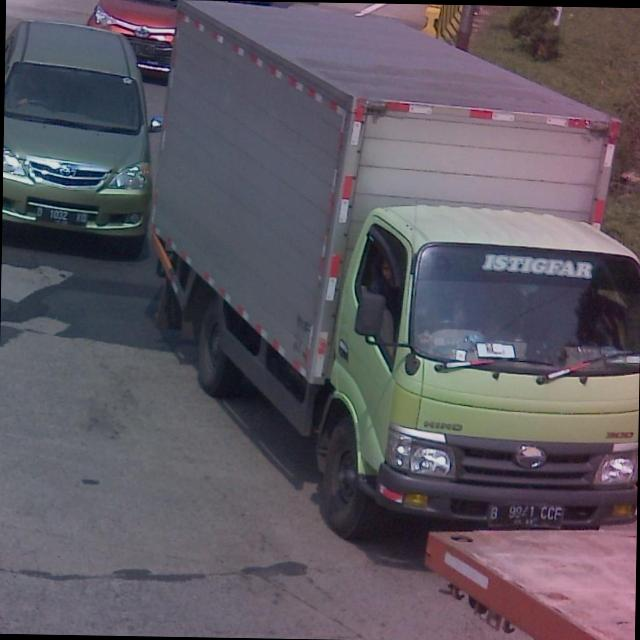plate: (488, 498, 566, 528)
